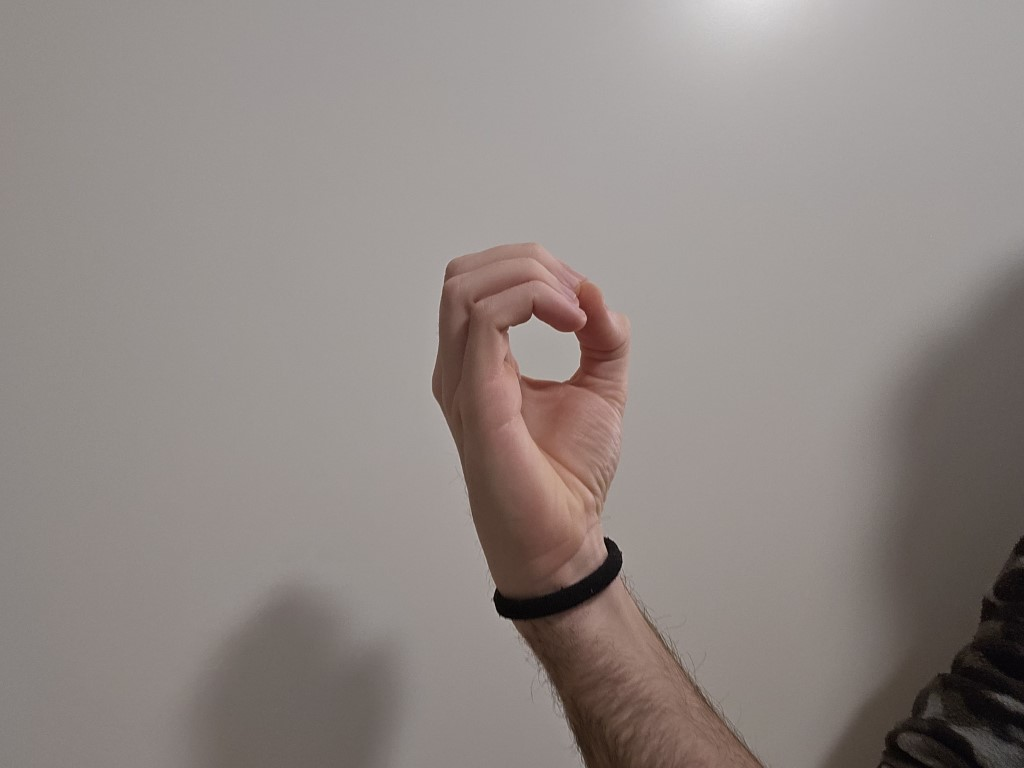o: (398, 231, 664, 550)
